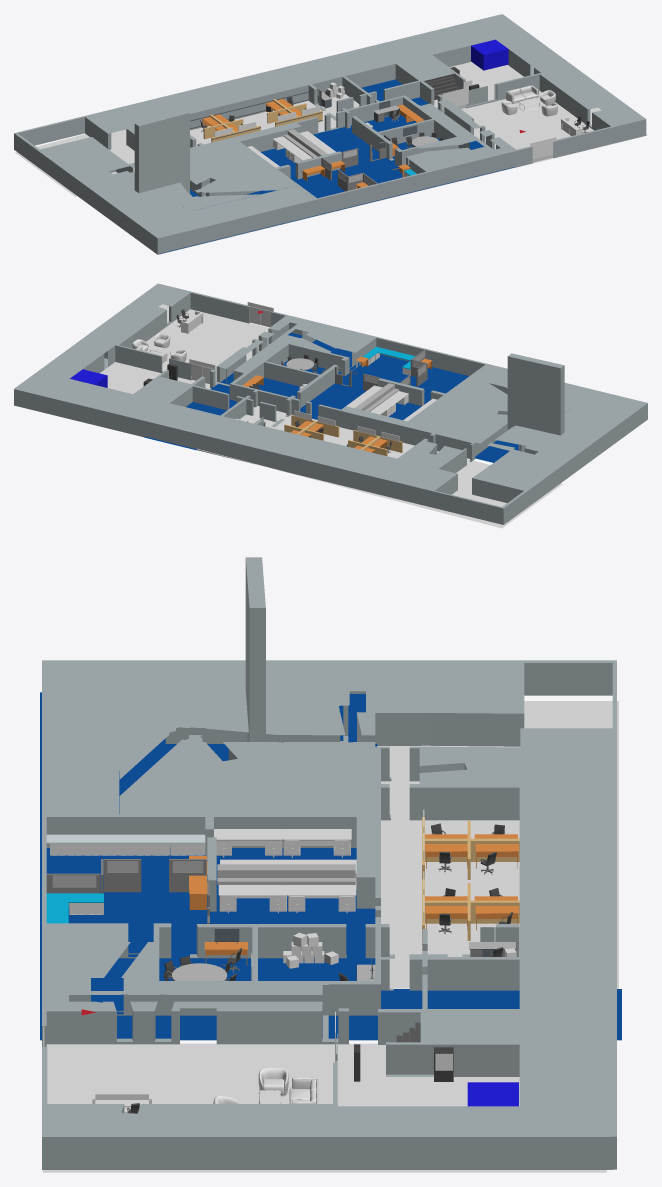
File: ground.glb
3 renders of one model, top to bottom at view 1: azimuth 30°, elevation 25°; view 2: azimuth 150°, elevation 25°; view 3: azimuth 270°, elevation 25°, orthographic. The views are drawn at different scales.
Visible parts, largest first — view 1: Cube; view 2: Cube; view 3: Cube.
Part boxes in pixels (x1,y1,x2,y2): Cube: (14,14,647,254); Cube: (14,283,647,528); Cube: (40,557,621,1172).
Bounding box in the file's own units: 62.4 × 10.56 × 32.06.
